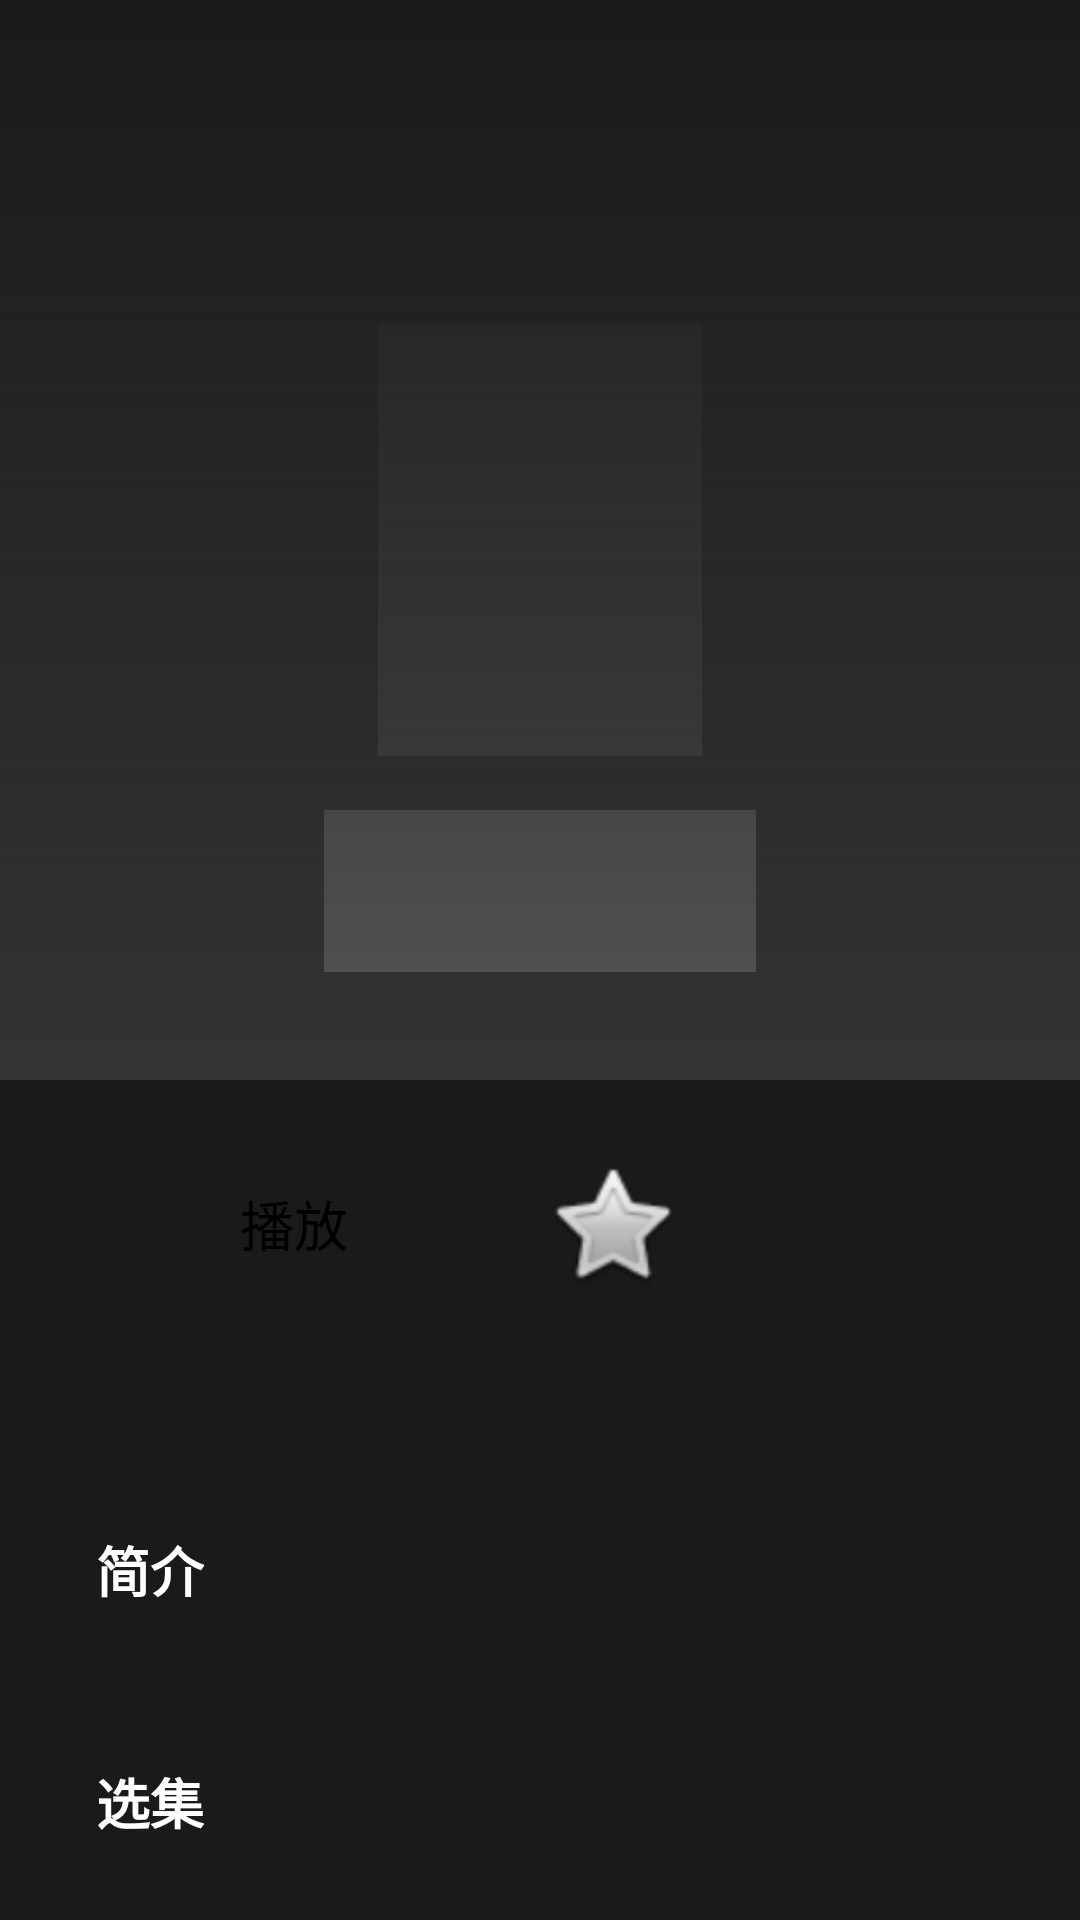

Point at icon controls on the screen. Image size 1080x1920, points as point (x, y).
收藏: point (613, 1223)
